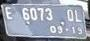clone-license-plate: (0, 3, 85, 38)
